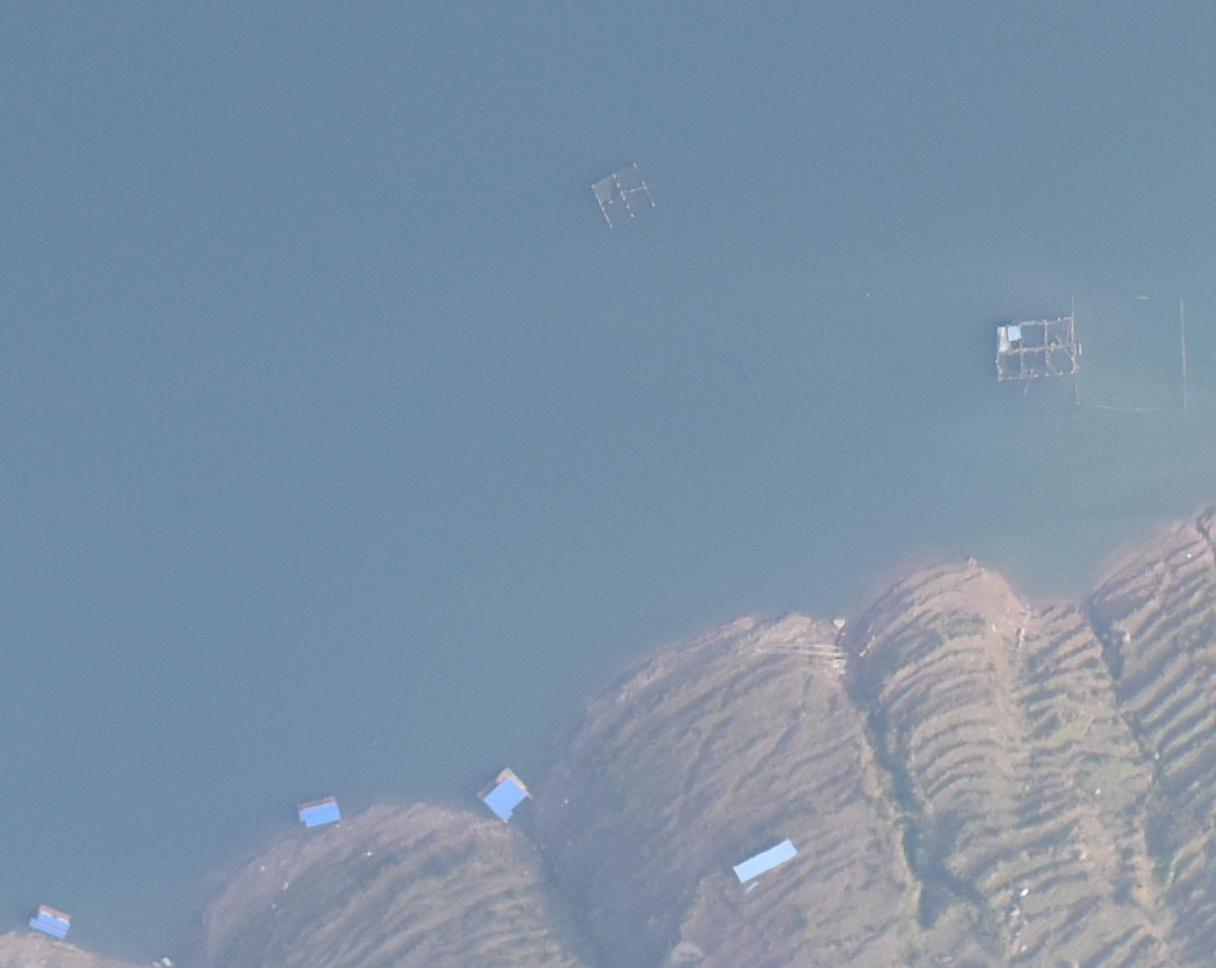cultivation-mesh-cage: (999, 288, 1189, 413), (592, 164, 657, 226)
prefabricated-house: (734, 839, 797, 884), (483, 777, 527, 821), (28, 911, 70, 939), (298, 802, 341, 827), (995, 324, 1013, 354), (1006, 324, 1023, 342)
